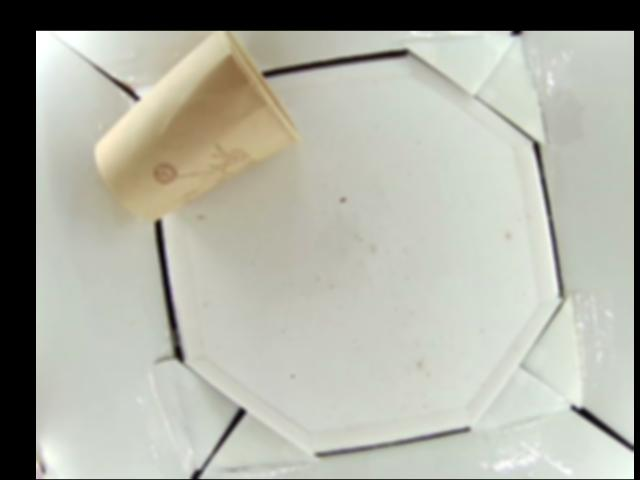Cup: (94, 31, 296, 225)
